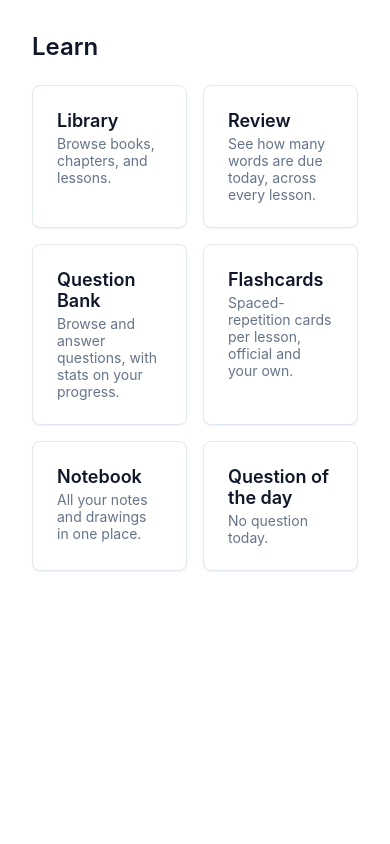
Scenario: a past day that was not answered shows the question with no way to answer
What coordinates should you click on to do the following:
click the text "Question of the day"
I would click on:
 (280, 487)
Its box is [228,466,333,508].
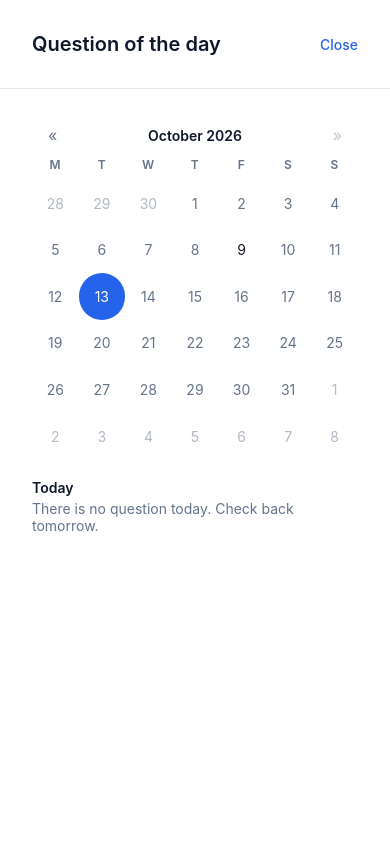
What coordinates should you click on to do the following:
click the button named "Friday, October 9, 2026: not answered"
I would click on:
 (242, 250)
Its box is [218,227,265,273].
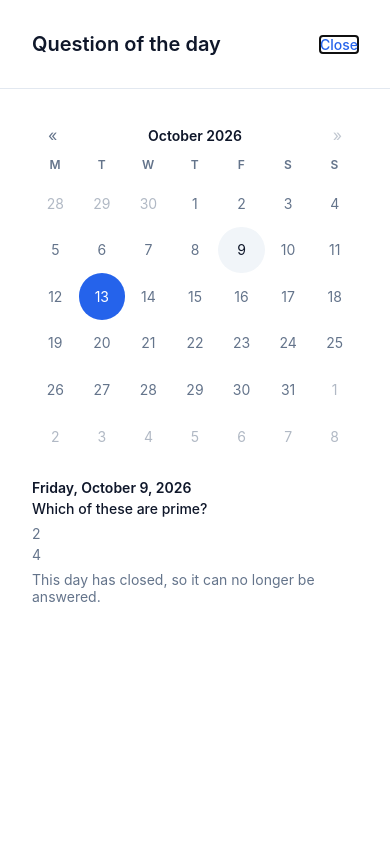
Check: the text "Which of these are prime?" is shown, box [32,500,208,517]
Check: the text "This day has closed, so it can no longer be answered." is shown, box [32,571,358,605]
